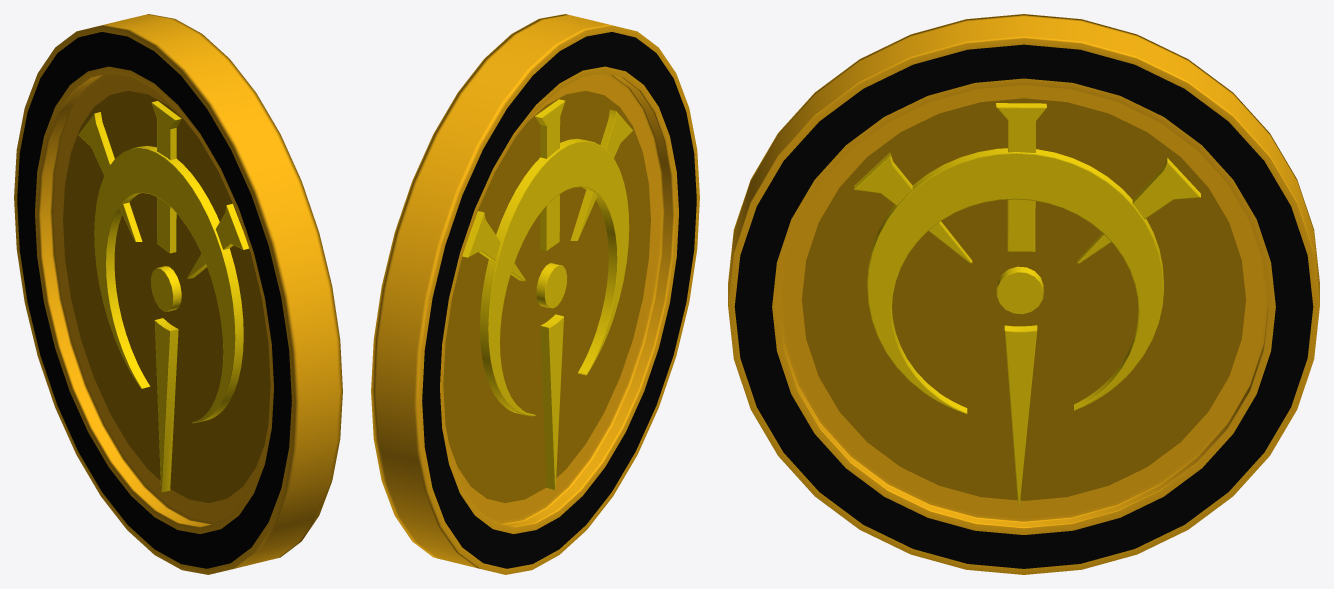
File: coin.fbx
3 views of the same model, side by side, from view 1: azimuth 30°, elevation 25°; view 2: azimuth 150°, elevation 25°; view 3: azimuth 270°, elevation 25° (orthographic). The views are drawn at different scales.
Parts seen in each view (by area): view 1: Cylinder, Curve, Curve.005, Curve.002, Curve.001, Curve.003, Cylinder.001; view 2: Cylinder, Curve, Curve.005, Curve.002, Curve.003, Curve.001, Cylinder.001; view 3: Cylinder, Curve.004, Curve.008, Curve.006, Curve.007, Curve.009, Cylinder.002.
Part boxes in pixels (box(x1,y1,x2,y2)): Cylinder: box(14, 14, 342, 574); Curve: box(94, 146, 243, 423); Curve.005: box(154, 318, 178, 492); Curve.002: box(151, 101, 181, 253); Curve.001: box(78, 112, 142, 241); Curve.003: box(187, 203, 248, 278); Cylinder.001: box(151, 266, 181, 311); Cylinder: box(371, 14, 699, 574); Curve: box(480, 138, 629, 416); Curve.005: box(540, 314, 563, 490); Curve.002: box(535, 99, 564, 251); Curve.003: box(570, 109, 632, 240); Curve.001: box(462, 211, 525, 281); Cylinder.001: box(536, 263, 567, 308); Cylinder: box(728, 14, 1319, 574); Curve.004: box(867, 148, 1163, 414); Curve.008: box(1004, 325, 1037, 506); Curve.006: box(996, 103, 1046, 251); Curve.007: box(1077, 158, 1200, 263); Curve.009: box(854, 152, 972, 263); Cylinder.002: box(996, 266, 1043, 314).
Bounding box in the file's own units: 19.72 × 200 × 200.
